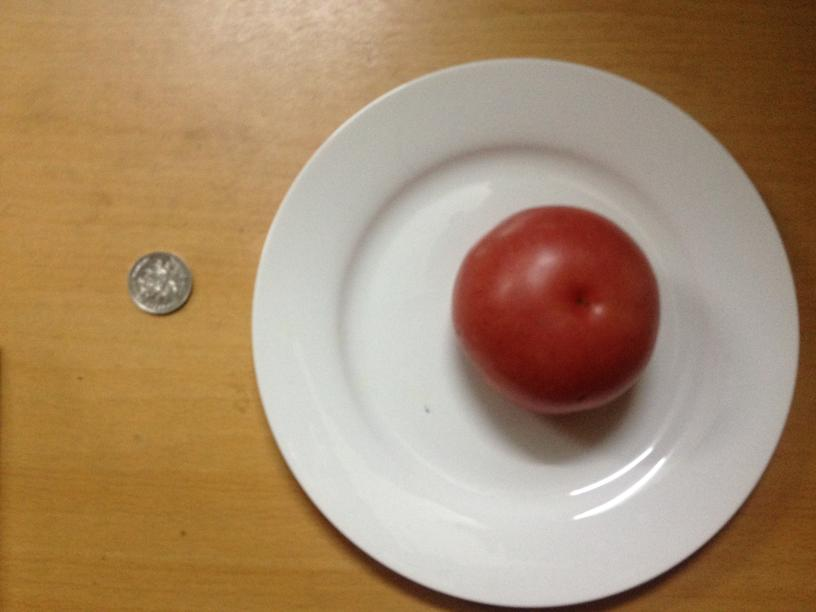coin: (125, 248, 196, 316)
tomato: (453, 201, 662, 414)
